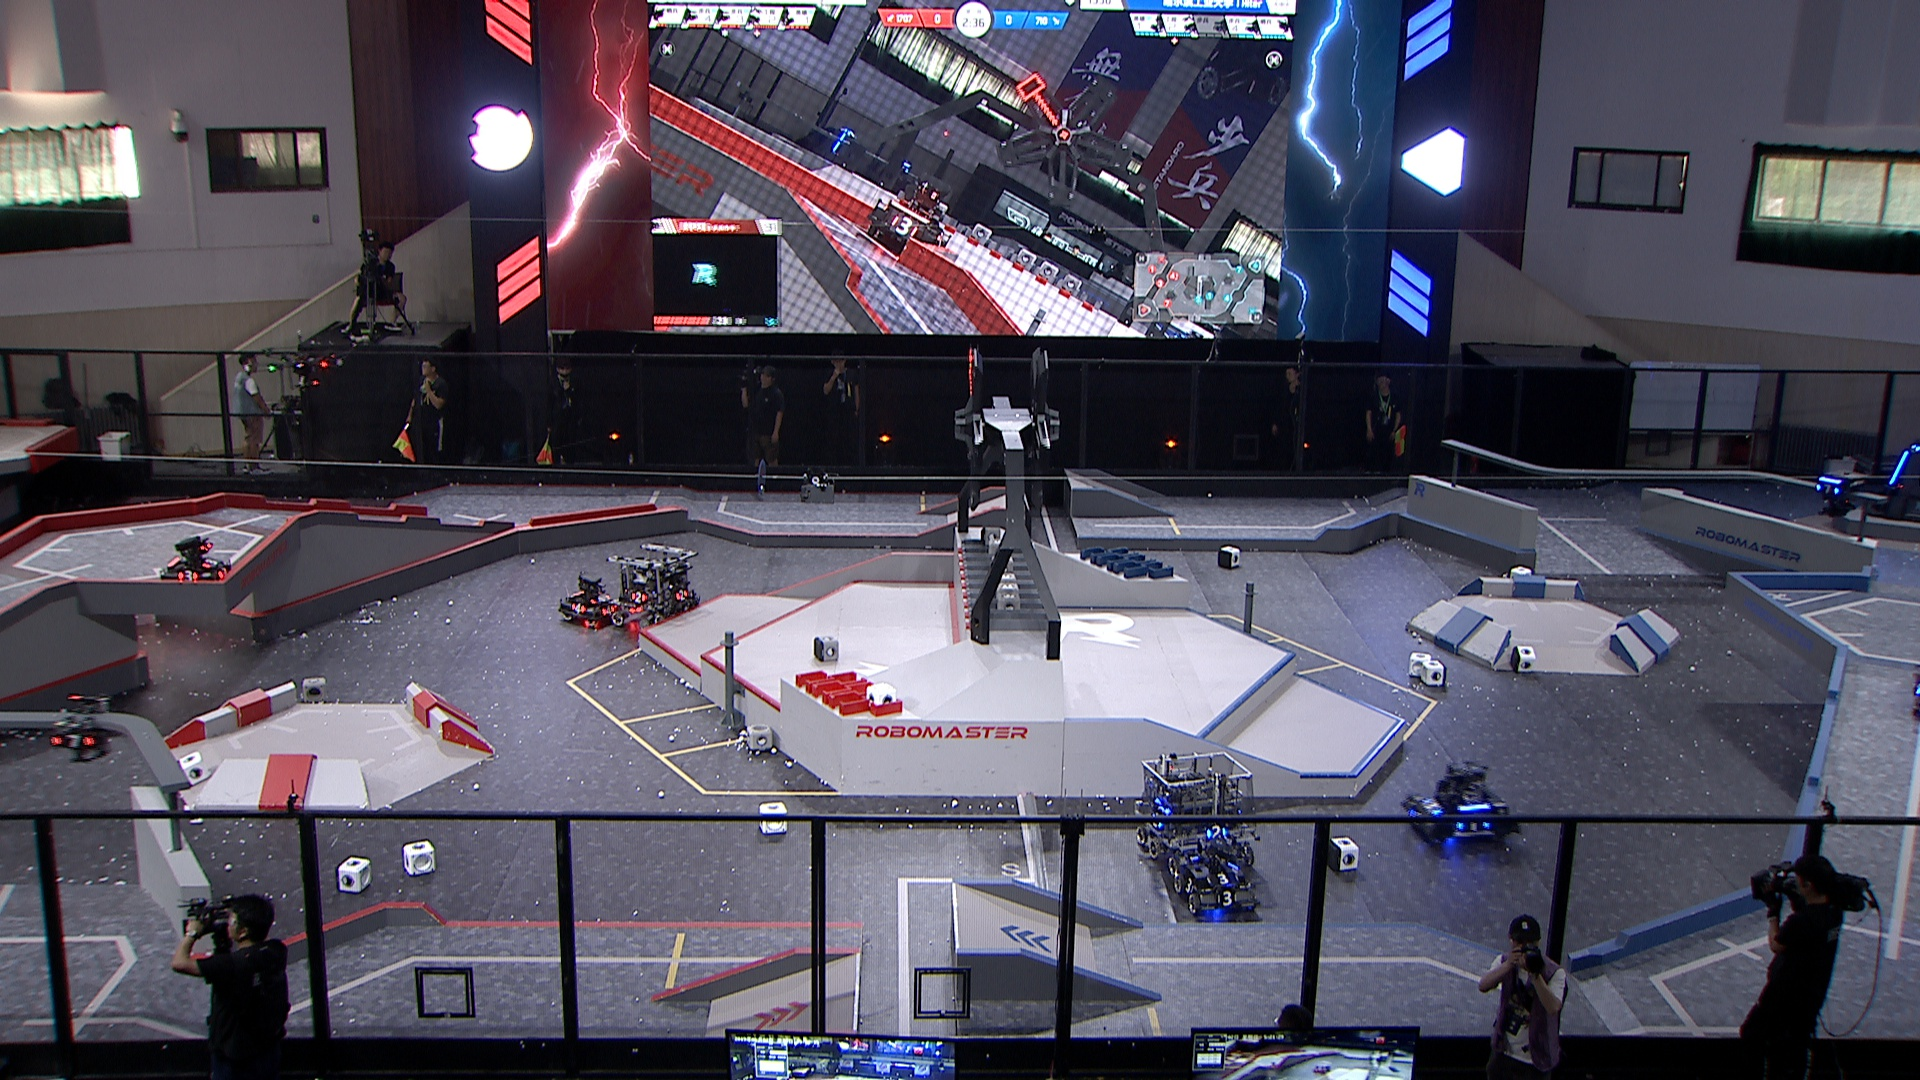armor: (1888, 450, 1909, 485), (51, 733, 95, 750), (1205, 869, 1240, 889), (1456, 818, 1494, 832), (1419, 796, 1444, 818), (1813, 483, 1844, 498), (1216, 889, 1238, 910), (1204, 823, 1229, 840), (177, 568, 200, 582), (1182, 877, 1197, 897), (216, 562, 233, 579), (632, 591, 650, 605), (588, 593, 612, 604), (674, 585, 688, 603), (200, 556, 219, 570), (570, 603, 588, 616), (599, 605, 615, 618)
base: (1865, 443, 1920, 527)
car: (1133, 750, 1265, 873), (1400, 756, 1524, 847), (604, 543, 702, 633), (1172, 839, 1261, 916), (558, 572, 626, 632), (158, 534, 233, 588)
ignore: (864, 174, 951, 257), (799, 124, 865, 178), (898, 161, 915, 174)
watcher: (50, 692, 116, 761), (1811, 469, 1869, 518)
